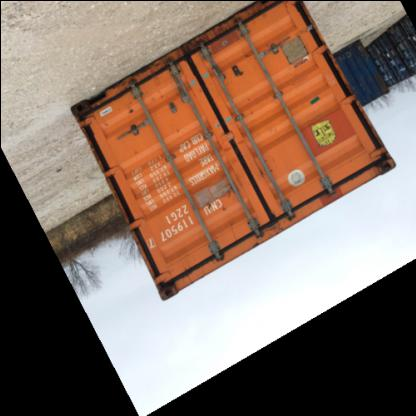Damage: (196, 176, 232, 215), (158, 268, 201, 295), (254, 210, 289, 237), (73, 100, 108, 125), (243, 86, 260, 126), (365, 158, 395, 176), (124, 93, 140, 118), (165, 122, 187, 140)
